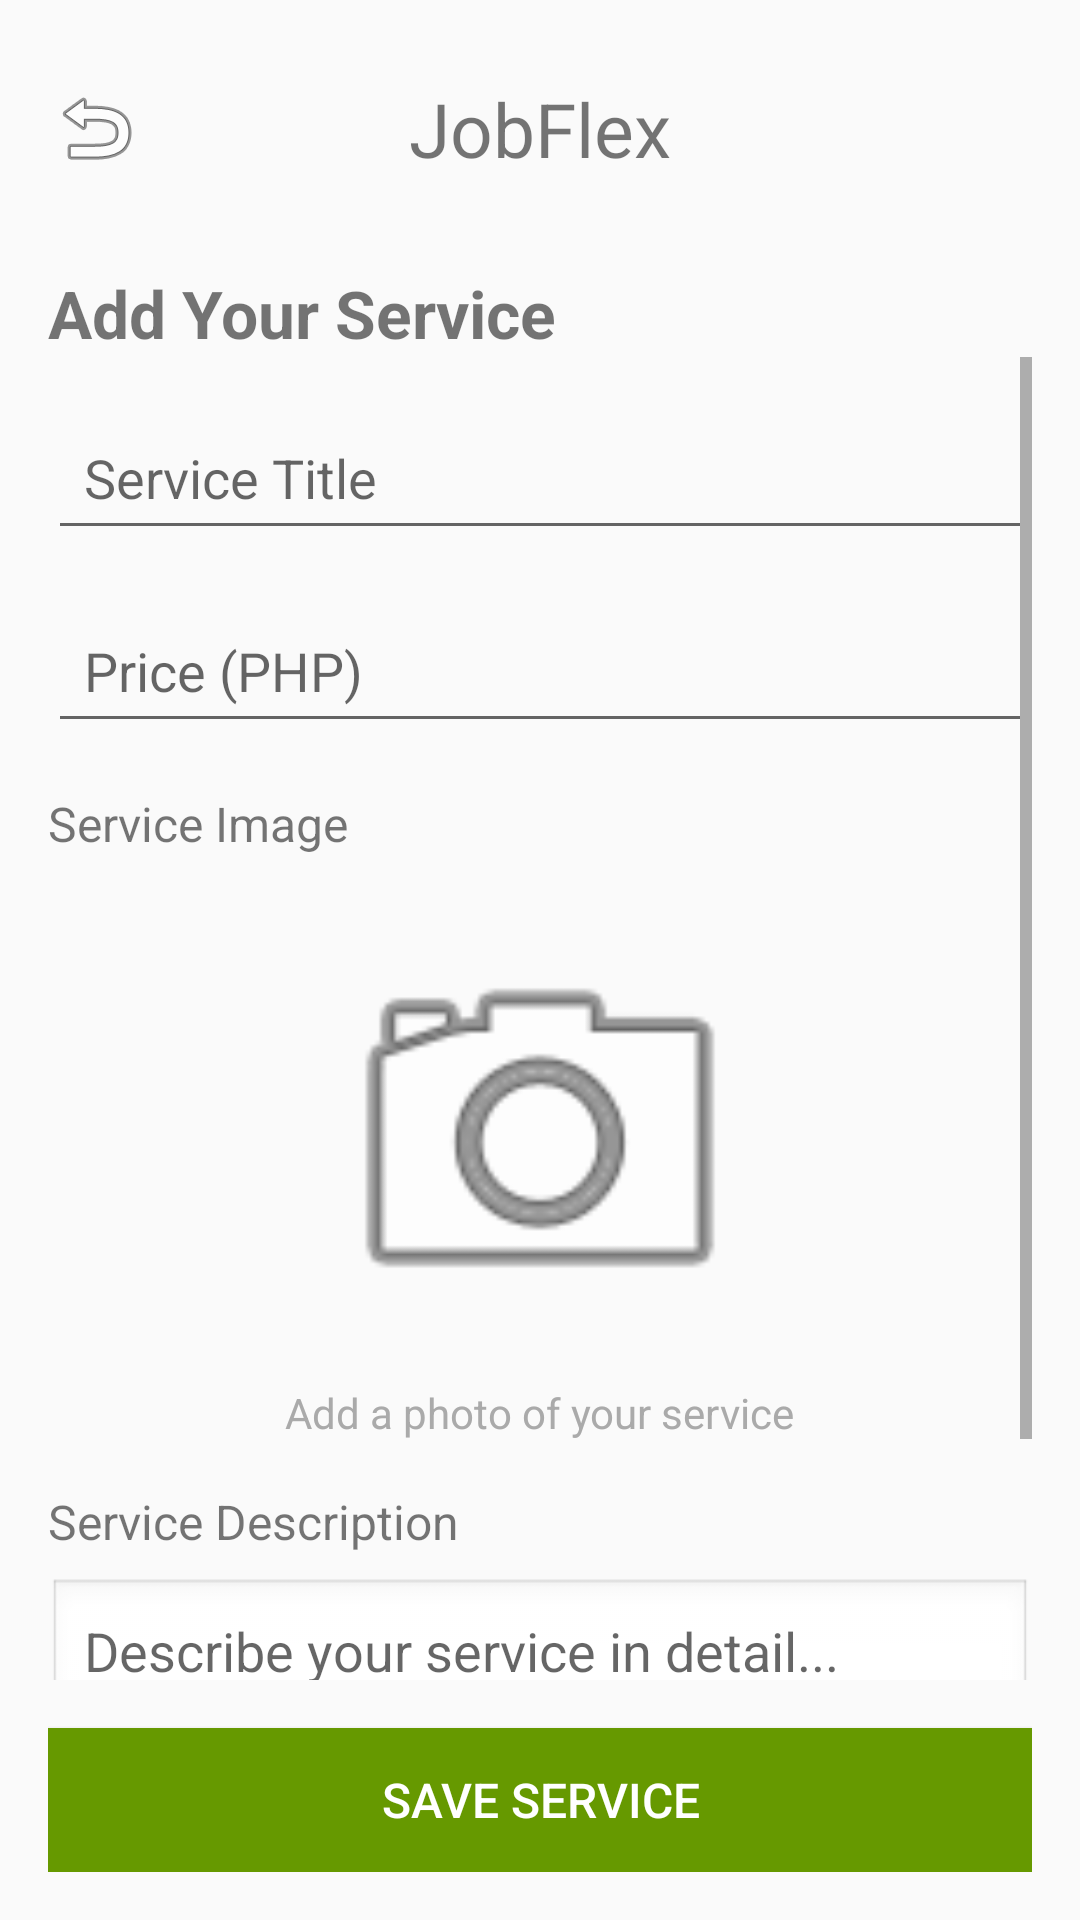

Named icons in this screenshot (1080px×1920px) and their centers, [x,y]:
Back Button: [97,128]
